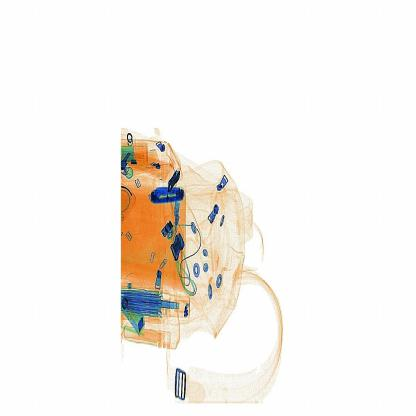scissors: (148, 179, 194, 215)
